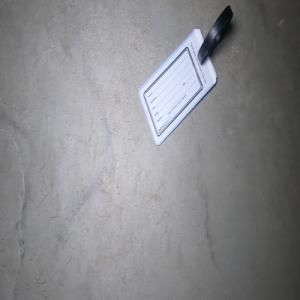LuggageTag: (136, 3, 234, 148)
